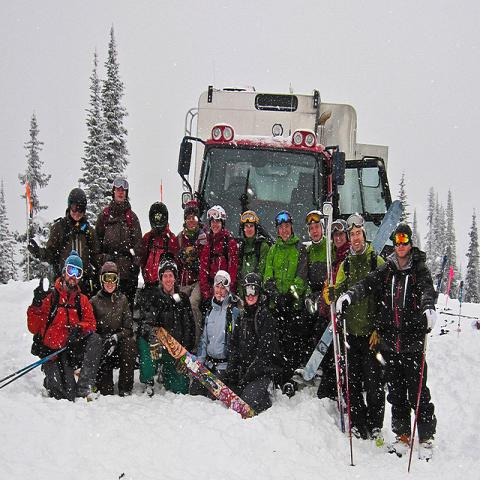truck: (174, 88, 390, 240)
